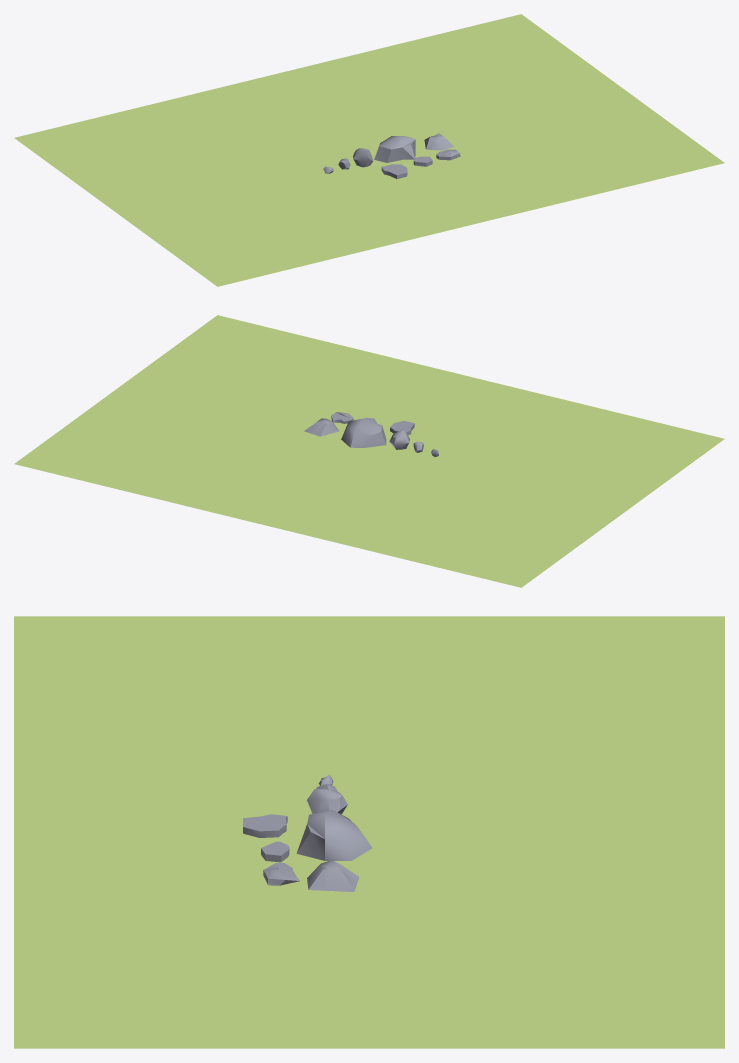
The picture shows the model from 3 angles, top to bottom: view 1: azimuth 30°, elevation 25°; view 2: azimuth 150°, elevation 25°; view 3: azimuth 270°, elevation 25°; orthographic projection. The views are drawn at different scales.
Visible parts, largest first — view 1: Plane; view 2: Plane; view 3: Plane.
Boxes of the visible parts, box(x1,y1,x2,y2) form: Plane: box(14, 14, 724, 286); Plane: box(14, 315, 724, 587); Plane: box(14, 616, 724, 1048).
Bounding box in the file's own units: 0.675 × 0.0269 × 0.469.
Materials: 1 (1 with a texture image).
